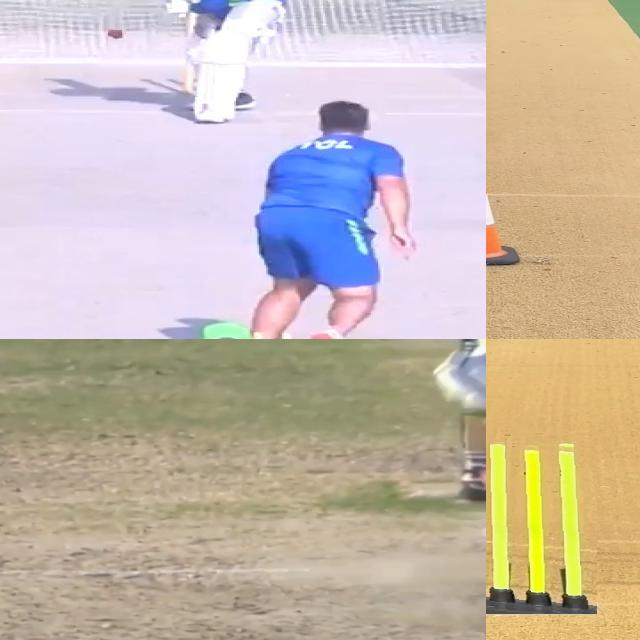Cricket ball: (106, 27, 126, 39)
Stumps: (486, 439, 597, 613)
